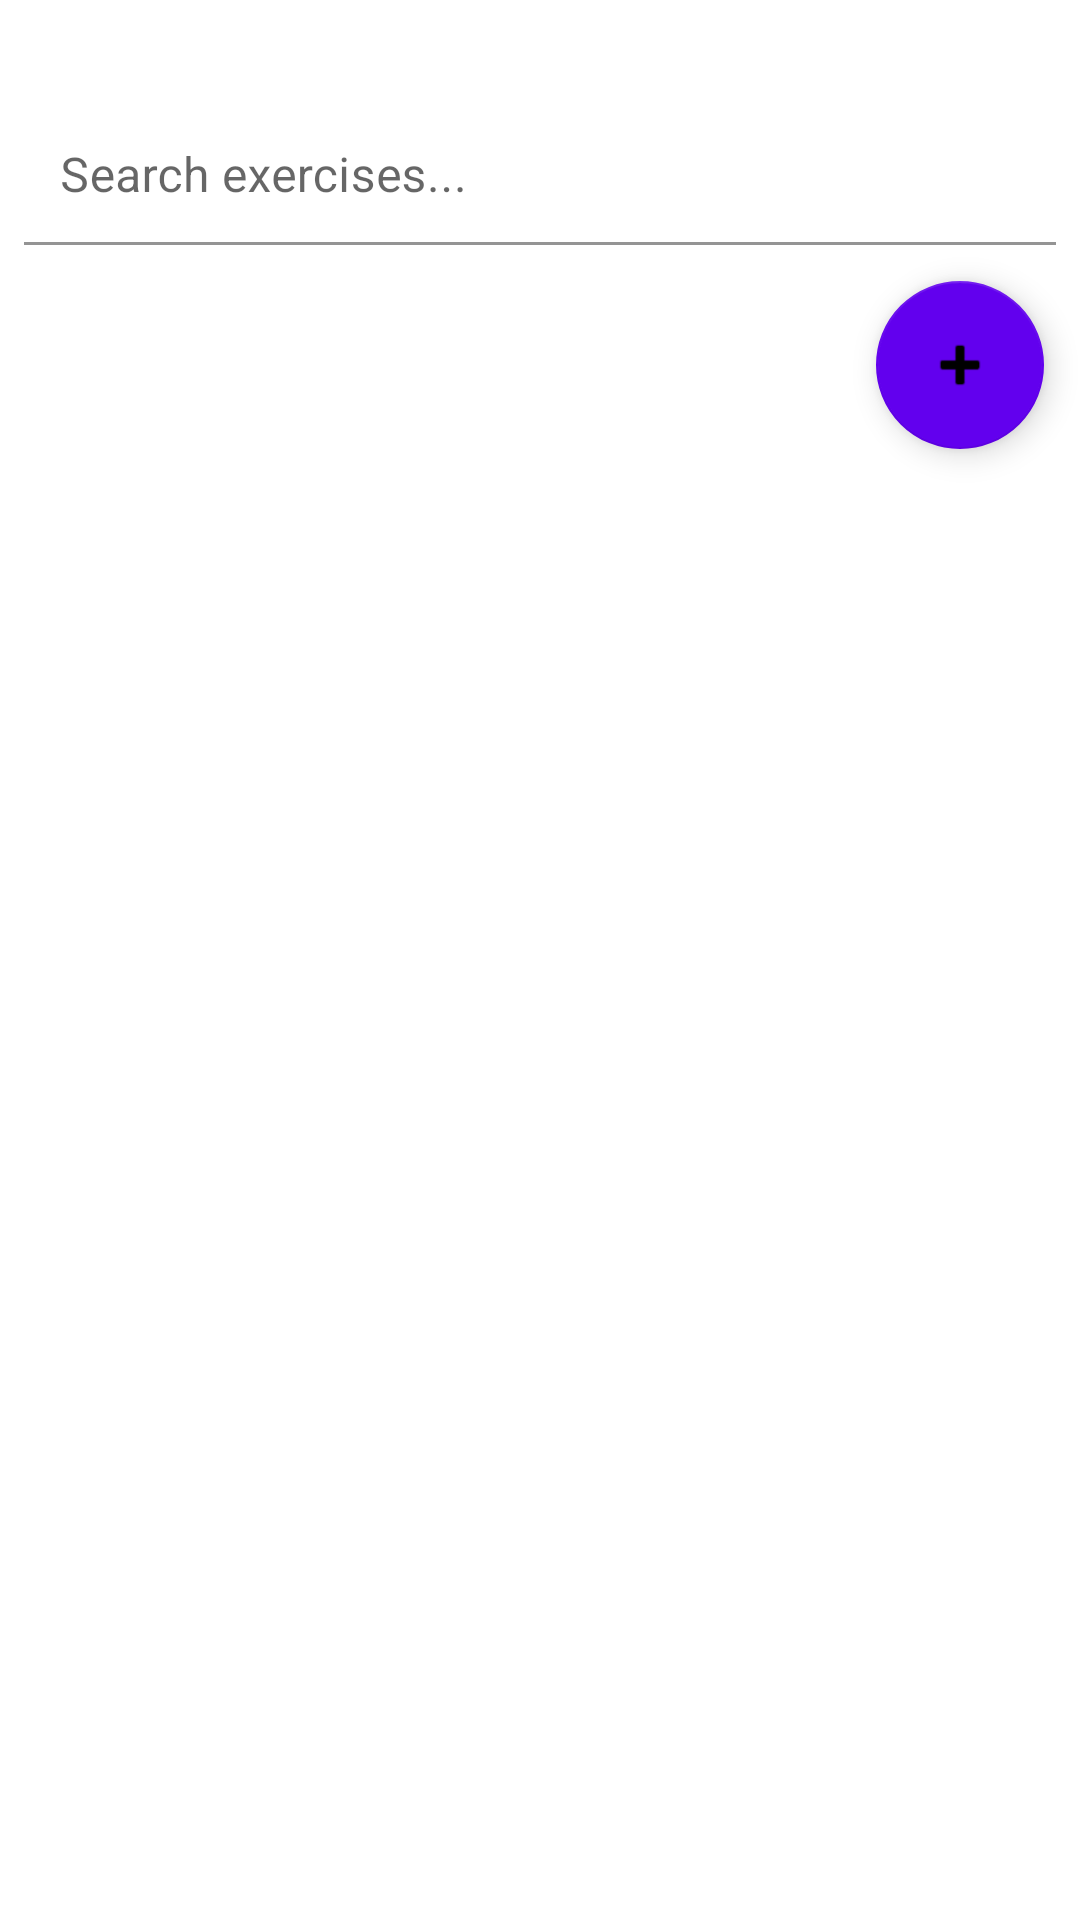

Point at icon controls on the screen. Image size 1080w x 1920h, points as (x,y).
Add Exercise: (960,365)
